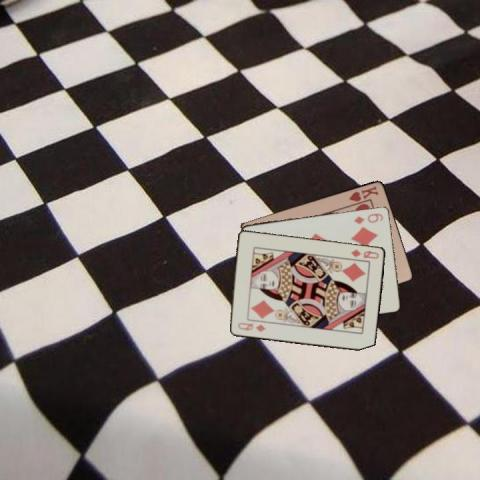6d: (351, 210, 385, 225)
Kh: (346, 183, 380, 202)
Qd: (348, 246, 380, 260), (234, 320, 266, 333)
